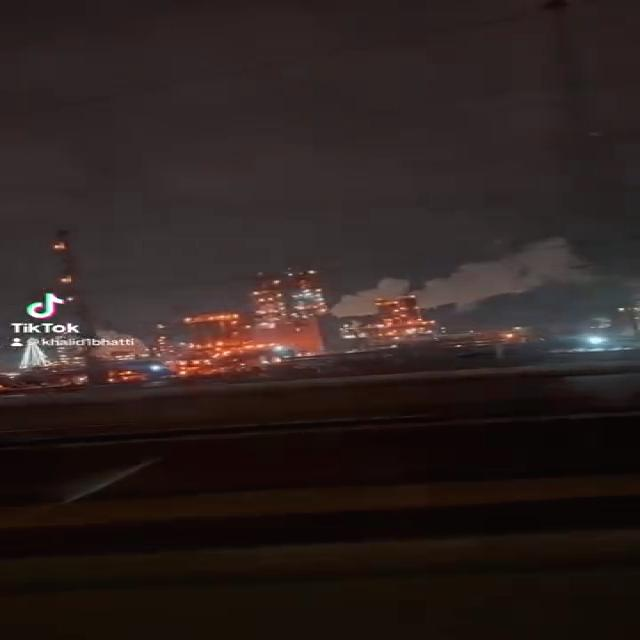smoke: (331, 221, 601, 317)
